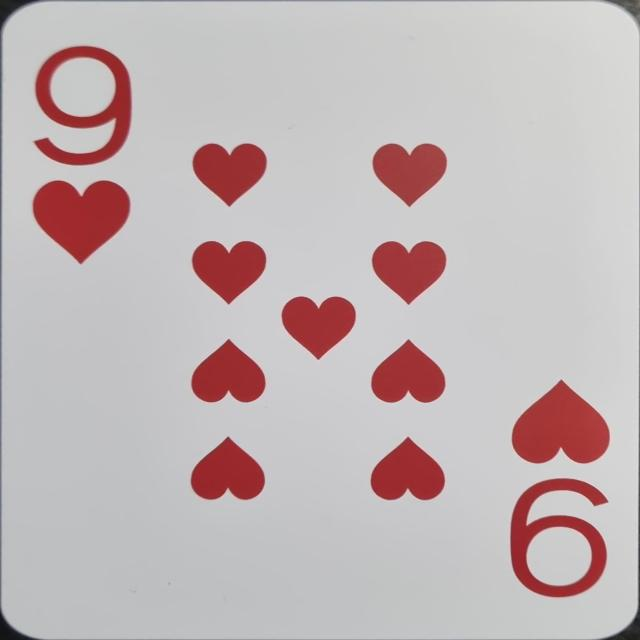9h: (490, 368, 621, 606), (15, 31, 142, 276)
